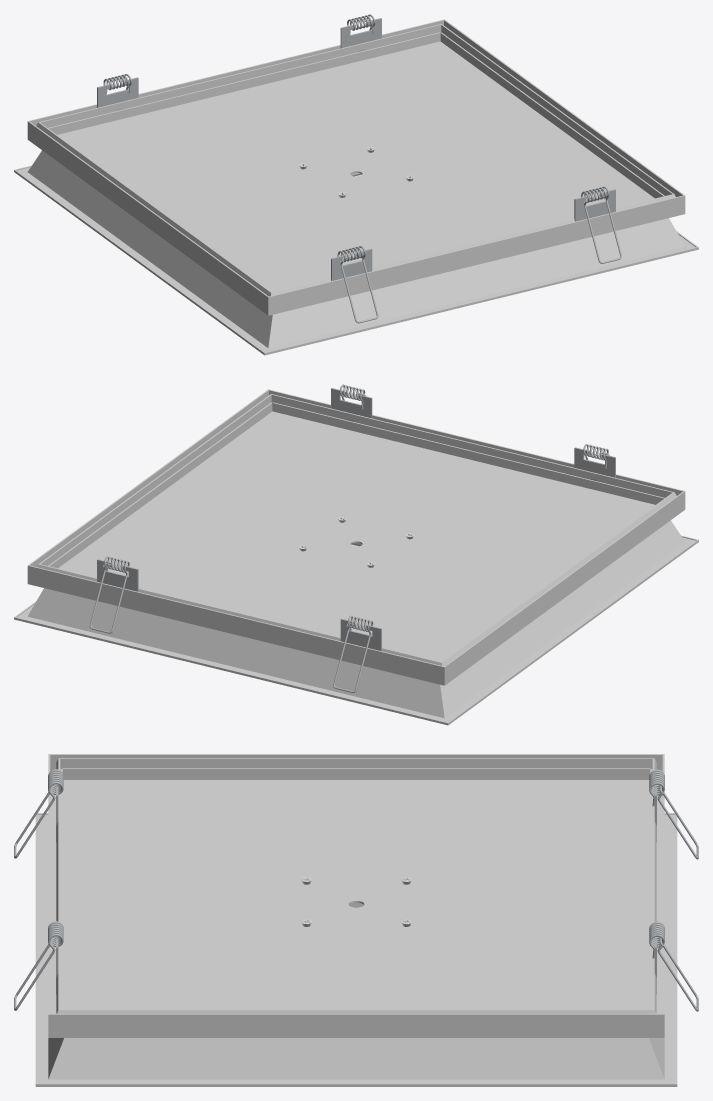
The model's file is PiazzaEmbutido.glb.
3 views of the same model, one above another, from view 1: azimuth 30°, elevation 25°; view 2: azimuth 150°, elevation 25°; view 3: azimuth 270°, elevation 25° (orthographic). The views are drawn at different scales.
Parts seen in each view (by area): view 1: 3DGeom-21, 3DGeom-17 (×4), 3DGeom-2 (×4), 3DGeom-1 (×2); view 2: 3DGeom-21, 3DGeom-17 (×4), 3DGeom-2 (×4), 3DGeom-1 (×2); view 3: 3DGeom-21, 3DGeom-17 (×4), 3DGeom-1 (×4).
Part boxes in pixels (x1=…): 3DGeom-21: x1=48, y1=32, x2=664, y2=291; 3DGeom-17 (×4): x1=14, y1=19, x2=698, y2=355; 3DGeom-2 (×4): x1=97, y1=18, x2=615, y2=281; 3DGeom-1 (×2): x1=337, y1=186, x2=621, y2=323; 3DGeom-21: x1=48, y1=402, x2=664, y2=661; 3DGeom-17 (×4): x1=14, y1=389, x2=698, y2=725; 3DGeom-2 (×4): x1=97, y1=388, x2=615, y2=651; 3DGeom-1 (×2): x1=89, y1=556, x2=373, y2=692; 3DGeom-21: x1=60, y1=768, x2=652, y2=1009; 3DGeom-17 (×4): x1=35, y1=754, x2=677, y2=1086; 3DGeom-1 (×4): x1=14, y1=769, x2=698, y2=1011.
Size of the model in its own units: 0.321 by 0.0549 by 0.3426.
2 materials, 1 textured.
